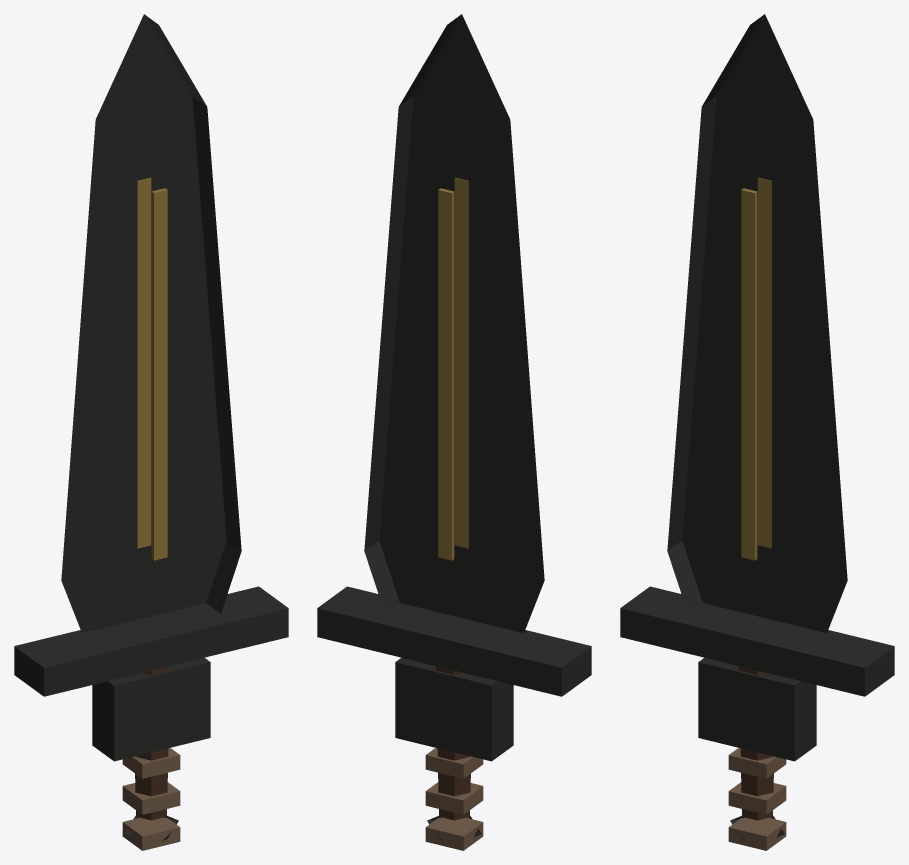
Rendered from greatsword.obj.
3 views of the same model, side by side, from view 1: azimuth 30°, elevation 25°; view 2: azimuth 150°, elevation 25°; view 3: azimuth 330°, elevation 25° (orthographic).
Visible parts, largest first — view 1: greatsword; view 2: greatsword; view 3: greatsword.
Boxes of the visible parts, x1,y1,x2,y2 form: greatsword: (14,14,288,850); greatsword: (317,14,591,850); greatsword: (620,14,894,850).
Bounding box in the file's own units: 1.42 × 4.58 × 0.32.
